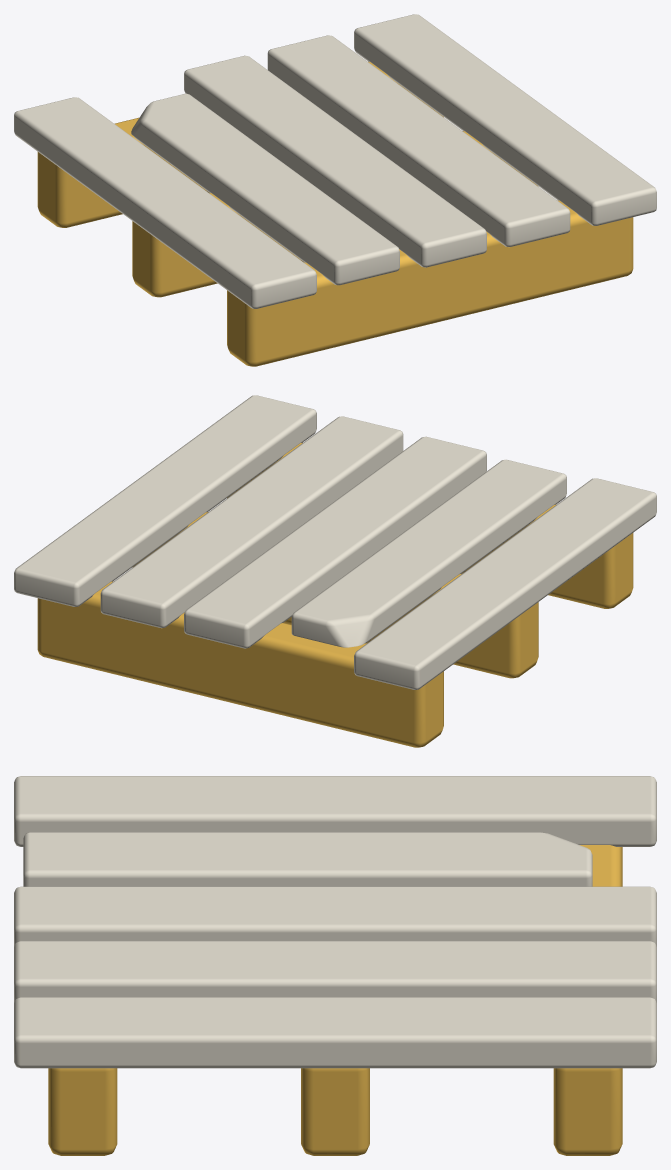
File: pallet.glb
The picture shows the model from 3 angles, top to bottom: view 1: azimuth 30°, elevation 25°; view 2: azimuth 150°, elevation 25°; view 3: azimuth 270°, elevation 25°; orthographic projection. The views are drawn at different scales.
Parts seen in each view (by area): view 1: pallet_cream, pallet_yellow; view 2: pallet_cream, pallet_yellow; view 3: pallet_cream, pallet_yellow.
Part boxes in pixels (x1,y1,x2,y2): pallet_cream: (14, 14, 656, 308); pallet_yellow: (37, 61, 633, 366); pallet_cream: (14, 395, 656, 689); pallet_yellow: (37, 442, 633, 747); pallet_cream: (14, 776, 656, 1068); pallet_yellow: (48, 845, 622, 1155).
Bounding box in the file's own units: 1.36 × 0.31 × 1.4.
